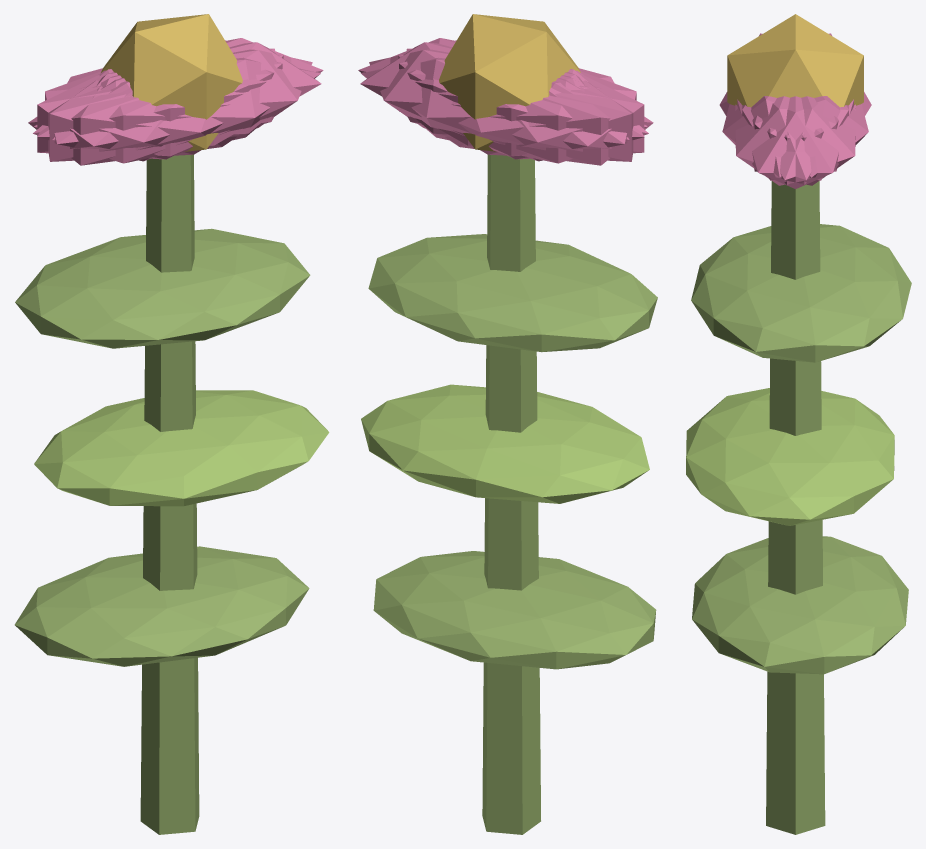
The model's file is torenia-fournieri.glb.
3 views of the same model, side by side, from view 1: azimuth 30°, elevation 25°; view 2: azimuth 150°, elevation 25°; view 3: azimuth 270°, elevation 25° (orthographic).
Visible parts, largest first — view 1: stem, leaf2, leaf1, leaf0, center, petal1, petal6, petal2, petal5, petal7, petal0, petal4 (+2 smaller); view 2: stem, leaf2, leaf0, leaf1, center, petal8, petal3, petal7, petal4, petal2, petal0, petal5 (+2 smaller); view 3: stem, leaf2, leaf1, leaf0, center, petal0, petal5, petal4, petal8, petal1.
Boxes of the visible parts, left/top/right/bottom form: stem: left=140, top=154, right=199, bottom=834; leaf2: left=15, top=228, right=310, bottom=348; leaf1: left=34, top=390, right=329, bottom=506; leaf0: left=14, top=546, right=309, bottom=666; center: left=101, top=14, right=242, bottom=151; petal1: left=33, top=57, right=320, bottom=163; petal6: left=28, top=70, right=236, bottom=165; petal2: left=48, top=48, right=275, bottom=161; petal5: left=52, top=49, right=312, bottom=156; petal7: left=37, top=54, right=283, bottom=159; petal0: left=100, top=42, right=321, bottom=146; petal4: left=34, top=38, right=323, bottom=137; stem: left=482, top=154, right=540, bottom=834; leaf2: left=368, top=234, right=657, bottom=352; leaf0: left=373, top=551, right=656, bottom=669; leaf1: left=361, top=384, right=649, bottom=503; center: left=439, top=14, right=580, bottom=151; petal8: left=361, top=57, right=648, bottom=163; petal3: left=445, top=70, right=653, bottom=165; petal7: left=406, top=48, right=633, bottom=161; petal4: left=369, top=49, right=629, bottom=156; petal2: left=398, top=54, right=644, bottom=159; petal0: left=360, top=42, right=581, bottom=145; petal5: left=358, top=38, right=647, bottom=137; stem: left=766, top=181, right=825, bottom=834; leaf2: left=691, top=224, right=911, bottom=362; leaf1: left=686, top=388, right=894, bottom=525; leaf0: left=692, top=536, right=908, bottom=674; center: left=727, top=14, right=863, bottom=107; petal0: left=737, top=96, right=853, bottom=189; petal5: left=735, top=96, right=848, bottom=185; petal4: left=742, top=96, right=855, bottom=185; petal8: left=752, top=96, right=868, bottom=177; petal1: left=722, top=96, right=838, bottom=177.
Bounding box in the file's own units: 0.1452 × 0.3914 × 0.1014.
